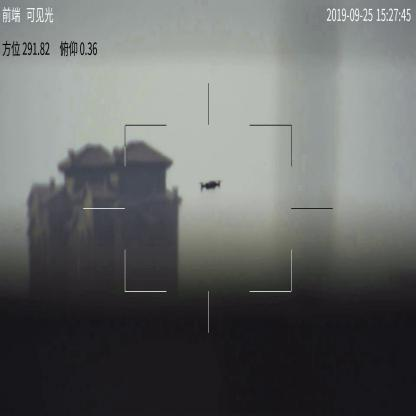uav: (199, 180, 223, 192)
